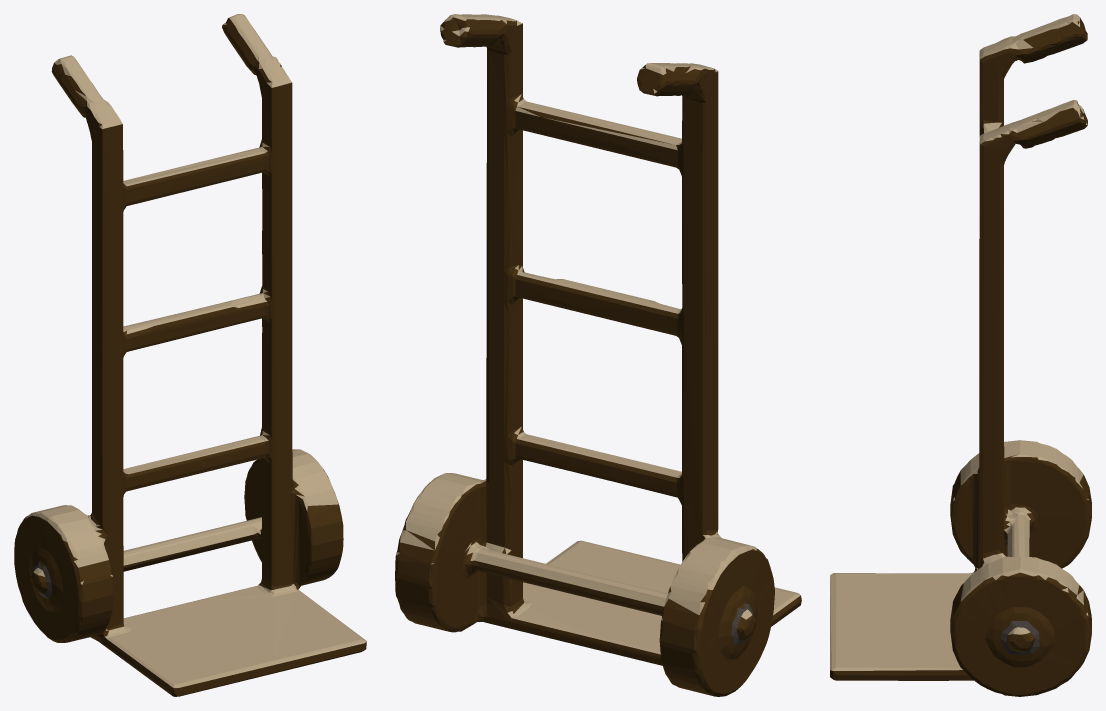
The model's file is SM_Carretilla_v4.fbx.
3 renders of one model, left to right at view 1: azimuth 30°, elevation 25°; view 2: azimuth 150°, elevation 25°; view 3: azimuth 270°, elevation 25°, orthographic. The views are drawn at different scales.
Parts seen in each view (by area): view 1: SM_Carretilla_v4; view 2: SM_Carretilla_v4; view 3: SM_Carretilla_v4.
Boxes of the visible parts, x1,y1,x2,y2 form: SM_Carretilla_v4: (14,14,366,696); SM_Carretilla_v4: (395,14,801,696); SM_Carretilla_v4: (830,14,1091,696).
Bounding box in the file's own units: 0.6533 × 1.2 × 0.4958.
Materials: 1 (1 with a texture image).
